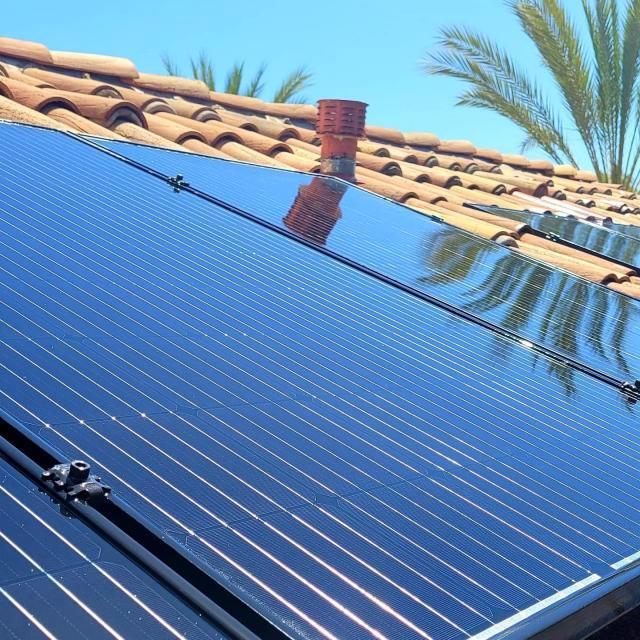no faulty: (0, 118, 640, 640)
